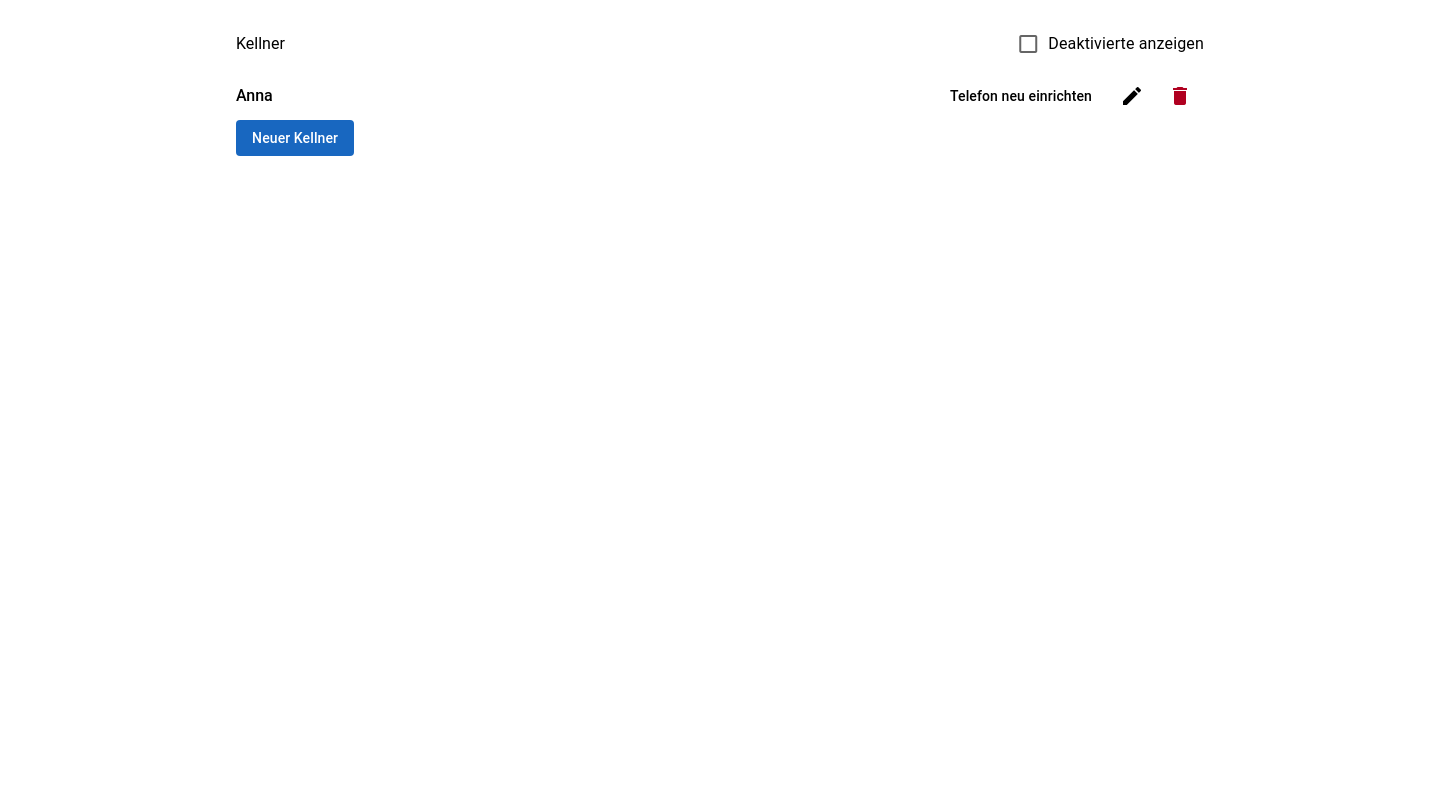
Test case: taking a staff member off the list › asks before it happens
Expected: the element with test id "staff-row" is shown, [236,72,1204,120]
Click the button with test id "deactivate" at point(1180, 96), box [1156,72,1204,120]
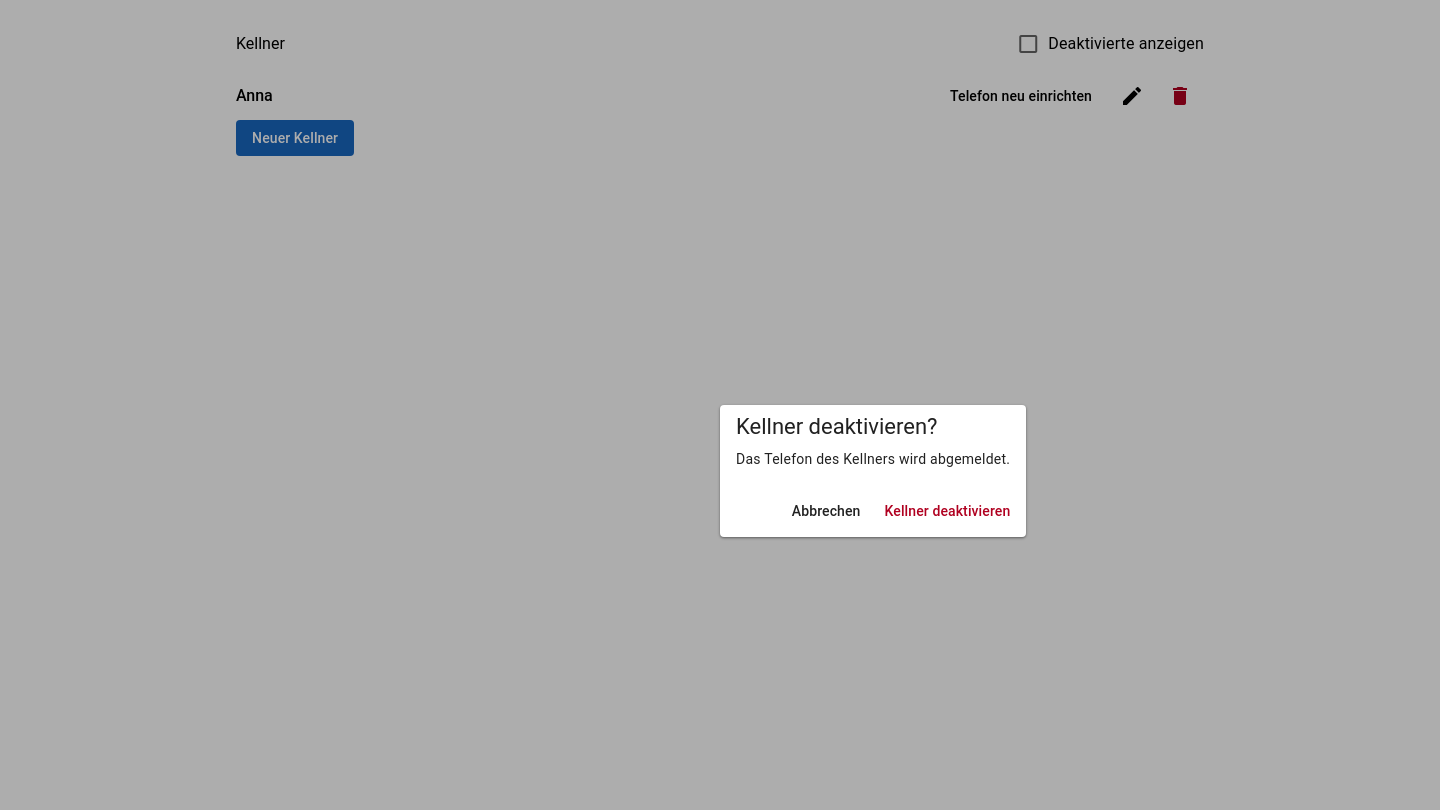
Result: the element with test id "confirm-dialog" is shown at [720,405,1026,537]
